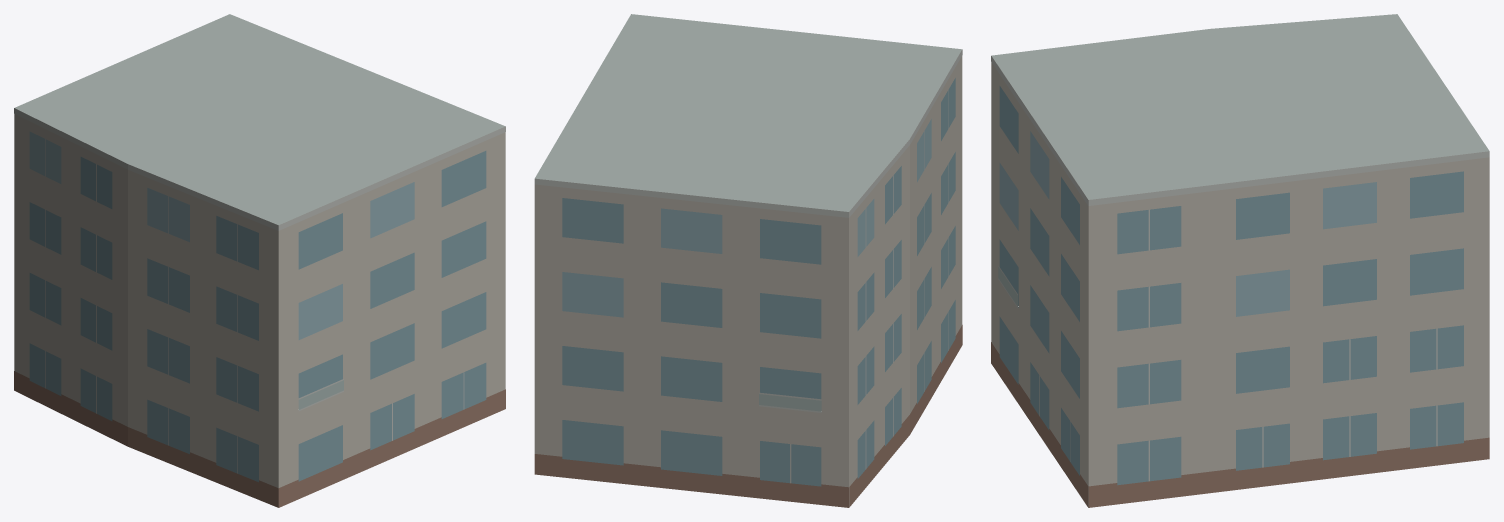
File: survey-upis-32524378.glb
3 views of the same model, side by side, from view 1: azimuth 30°, elevation 25°; view 2: azimuth 150°, elevation 25°; view 3: azimuth 270°, elevation 25° (orthographic). The views are drawn at different scales.
Visible parts, largest first — view 1: survey-upis-32524378.tmp; view 2: survey-upis-32524378.tmp; view 3: survey-upis-32524378.tmp.
Boxes of the visible parts, x1=… form: survey-upis-32524378.tmp: x1=14, y1=14, x2=505, y2=507; survey-upis-32524378.tmp: x1=534, y1=14, x2=962, y2=507; survey-upis-32524378.tmp: x1=991, y1=14, x2=1489, y2=507.
Bounding box in the file's own units: 15.95 × 12.3 × 18.06.
